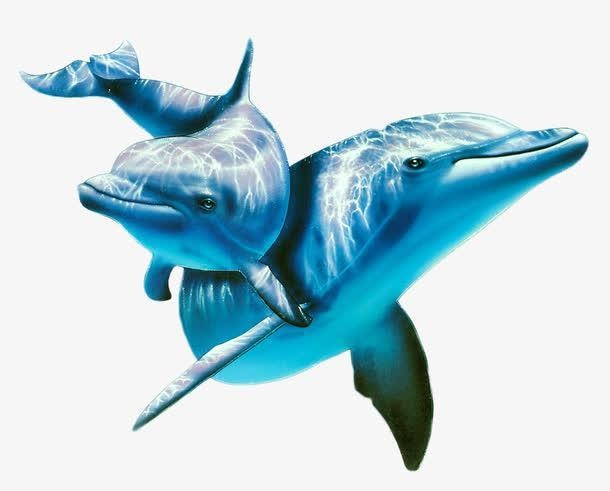fish: (128, 113, 594, 473), (10, 38, 317, 328)
